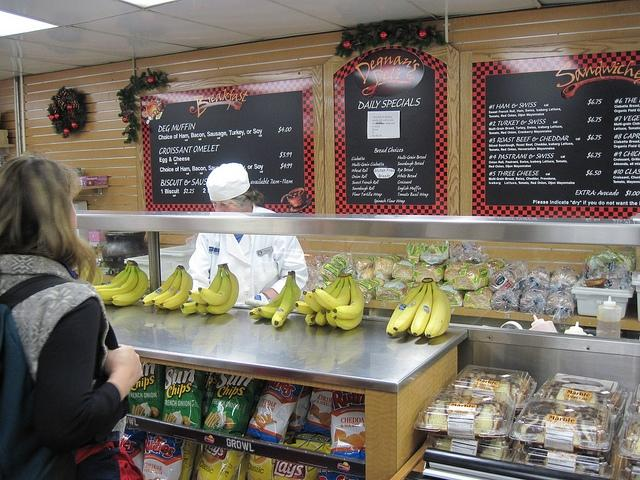banana: (386, 282, 424, 336), (257, 278, 301, 320), (249, 274, 289, 320), (393, 282, 428, 332), (302, 274, 346, 313), (205, 264, 239, 314), (110, 265, 148, 306), (98, 266, 138, 304), (312, 276, 351, 312), (332, 276, 364, 319), (142, 268, 178, 306), (198, 266, 232, 306), (424, 280, 447, 338), (160, 269, 193, 308), (112, 304, 149, 338), (188, 267, 222, 304), (272, 274, 294, 328), (411, 282, 433, 336), (152, 270, 182, 306), (94, 262, 132, 290), (434, 288, 450, 336), (334, 308, 364, 330), (104, 260, 130, 284), (315, 324, 333, 350), (295, 301, 317, 315), (180, 301, 198, 314), (315, 310, 328, 326), (326, 310, 338, 327), (195, 302, 211, 314), (305, 312, 318, 326)
